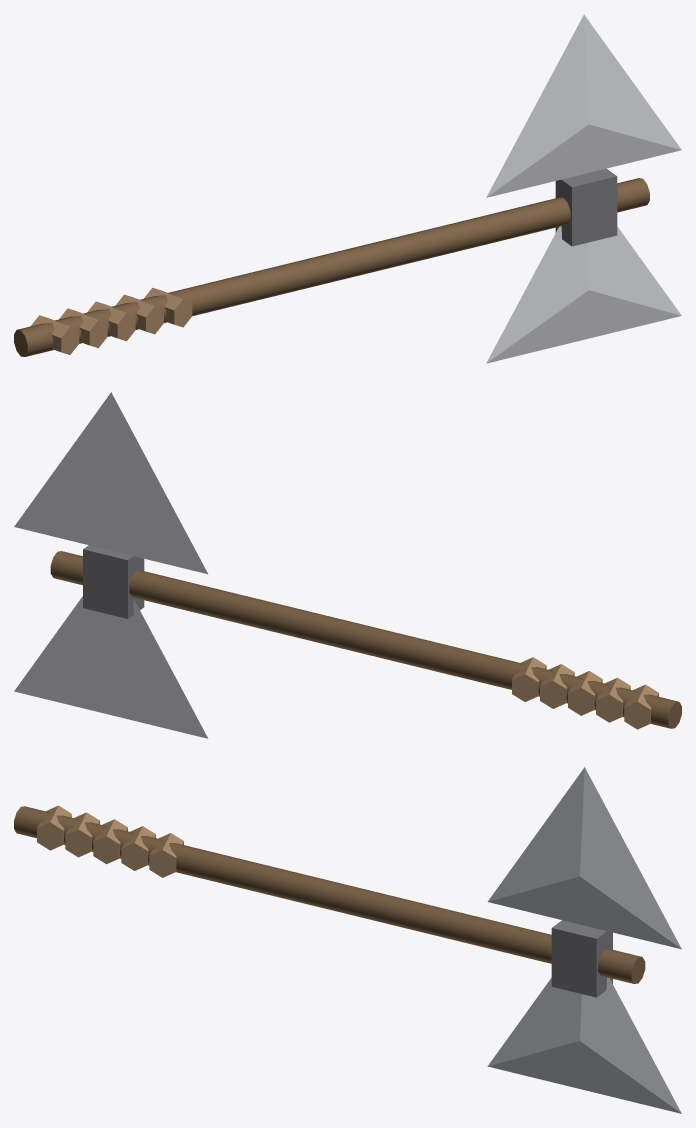
The model's file is axe.glb.
3 renders of one model, top to bottom at view 1: azimuth 30°, elevation 25°; view 2: azimuth 150°, elevation 25°; view 3: azimuth 330°, elevation 25°, orthographic.
Visible parts, largest first — view 1: blade1, shaft, blade-1, eye, wrap4, wrap0, wrap1, wrap2, wrap3; view 2: blade1, shaft, blade-1, eye, wrap0, wrap1, wrap4, wrap3, wrap2; view 3: blade1, shaft, blade-1, eye, wrap4, wrap2, wrap3, wrap0, wrap1.
Boxes of the visible parts, <box> form: blade1: <box>486,14,681,197</box>; shaft: <box>14,178,649,356</box>; blade-1: <box>486,226,681,363</box>; eye: <box>555,168,617,246</box>; wrap4: <box>144,287,192,327</box>; wrap0: <box>31,315,79,354</box>; wrap1: <box>59,308,107,348</box>; wrap2: <box>87,301,135,341</box>; wrap3: <box>115,294,163,334</box>; blade1: <box>14,392,207,574</box>; shaft: <box>50,551,681,728</box>; blade-1: <box>14,596,208,738</box>; eye: <box>83,545,144,618</box>; wrap0: <box>624,684,658,729</box>; wrap1: <box>596,677,630,722</box>; wrap4: <box>512,657,546,701</box>; wrap3: <box>540,664,574,708</box>; wrap2: <box>568,671,602,715</box>; blade1: <box>487,767,681,949</box>; shaft: <box>14,806,645,983</box>; blade-1: <box>487,977,681,1113</box>; eye: <box>551,920,612,997</box>; wrap4: <box>149,833,183,877</box>; wrap2: <box>93,819,127,864</box>; wrap3: <box>121,826,155,870</box>; wrap0: <box>37,805,71,850</box>; wrap1: <box>65,812,99,857</box>.
Size of the model in its own units: 1.17 by 0.55 by 0.0731.
